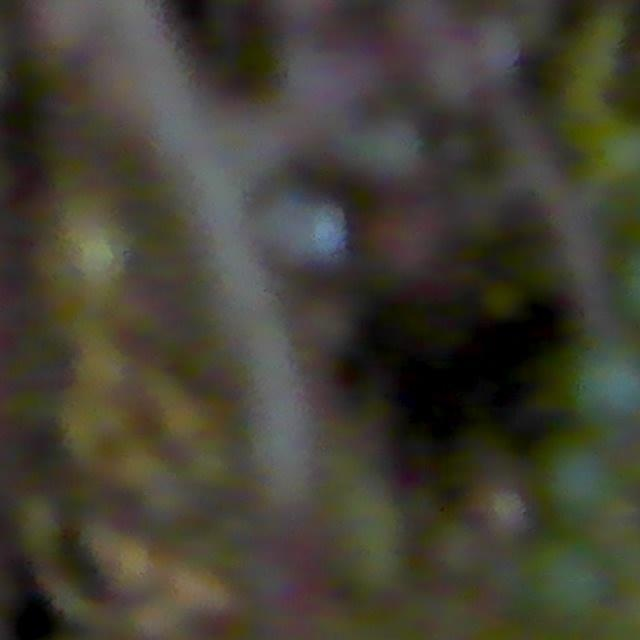SeaGrape: (533, 522, 621, 618), (539, 430, 619, 514), (573, 340, 640, 423), (456, 5, 531, 75), (474, 480, 534, 543), (418, 25, 472, 92), (393, 0, 460, 43)
